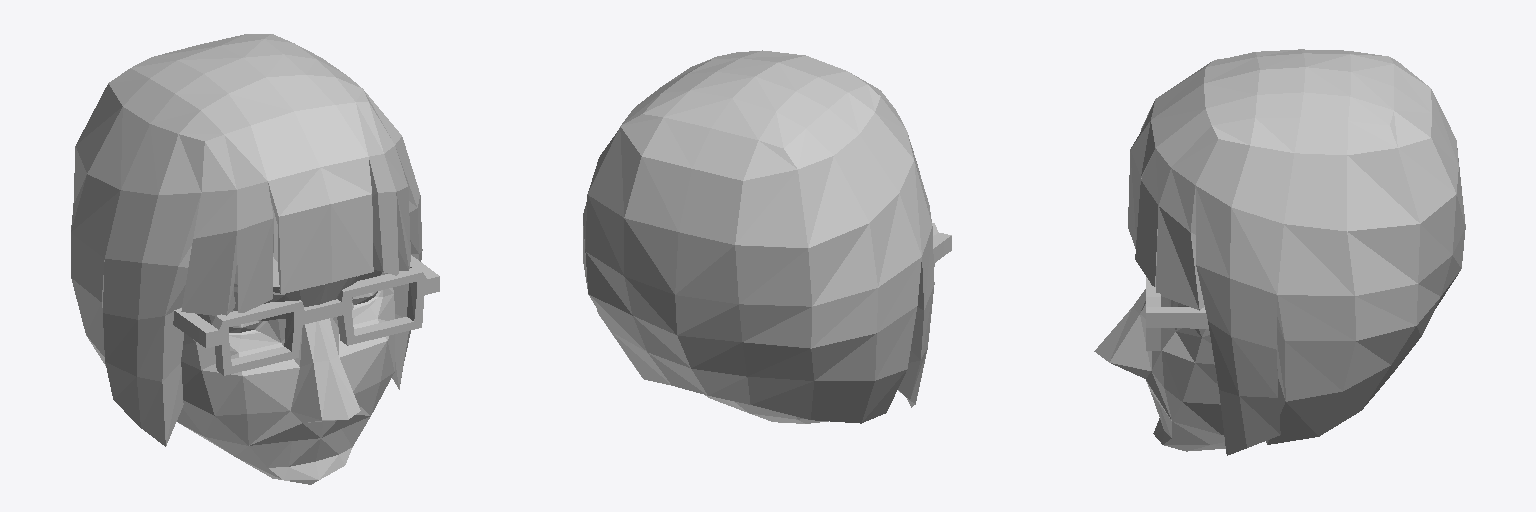
File: ProfessorBerger_closed.obj
The picture shows the model from 3 angles: view 1: azimuth 30°, elevation 25°; view 2: azimuth 150°, elevation 25°; view 3: azimuth 270°, elevation 25°; orthographic projection.
Parts seen in each view (by area): view 1: haircut2_Cube.001, face_Cube.002, glasses_Plane.001; view 2: haircut2_Cube.001, face_Cube.002; view 3: haircut2_Cube.001, face_Cube.002, glasses_Plane.001.
Boxes of the visible parts, x1,y1,x2,y2 form: haircut2_Cube.001: [71, 34, 422, 446]; face_Cube.002: [177, 203, 394, 484]; glasses_Plane.001: [173, 255, 439, 375]; haircut2_Cube.001: [583, 50, 934, 423]; face_Cube.002: [705, 395, 828, 423]; haircut2_Cube.001: [1128, 49, 1465, 455]; face_Cube.002: [1094, 289, 1277, 451]; glasses_Plane.001: [1146, 277, 1208, 350].
Bounding box in the file's own units: 5.77 × 6.73 × 6.